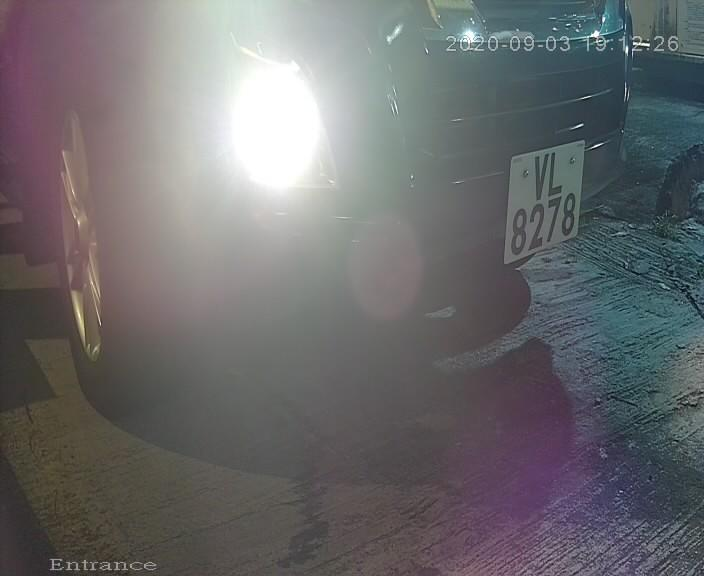License Plate: (497, 124, 585, 276)
